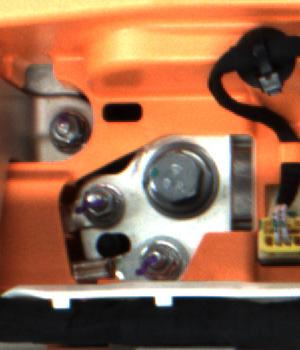nut_b: (140, 137, 226, 224)
